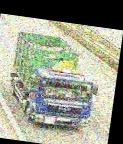truck: (6, 31, 101, 131)
